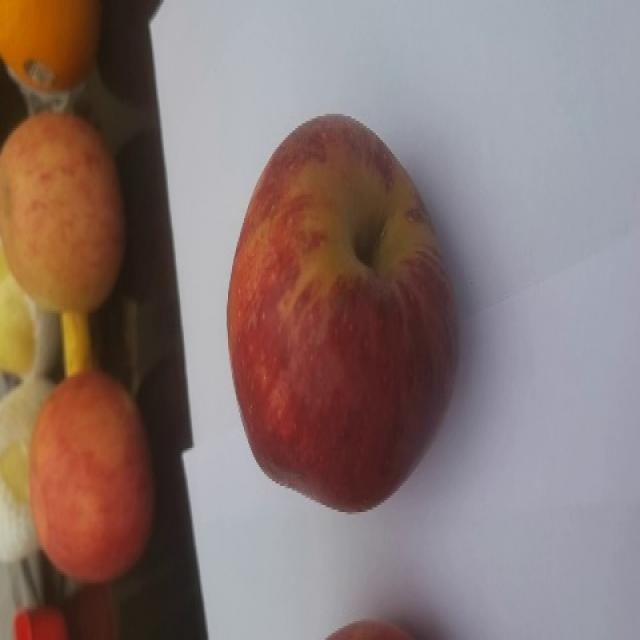Apple: (226, 112, 458, 514)
